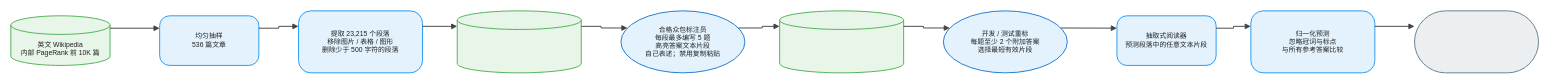
Some shapes in this 1550 by 84 pixel diagram are drawn without their labels. Here are the shapes that lost their labels. From the top down, the centre of each, then its label:
At point 519,41: "按文章划分 训练 80% / 开发 10% / 测试 10%".
At point 841,41: "SQuAD v1.0 107,785 组问答 答案可由段落推出".
At point 1476,41: "精确匹配 每题取最大 Token F1 对所有问题宏平均".
